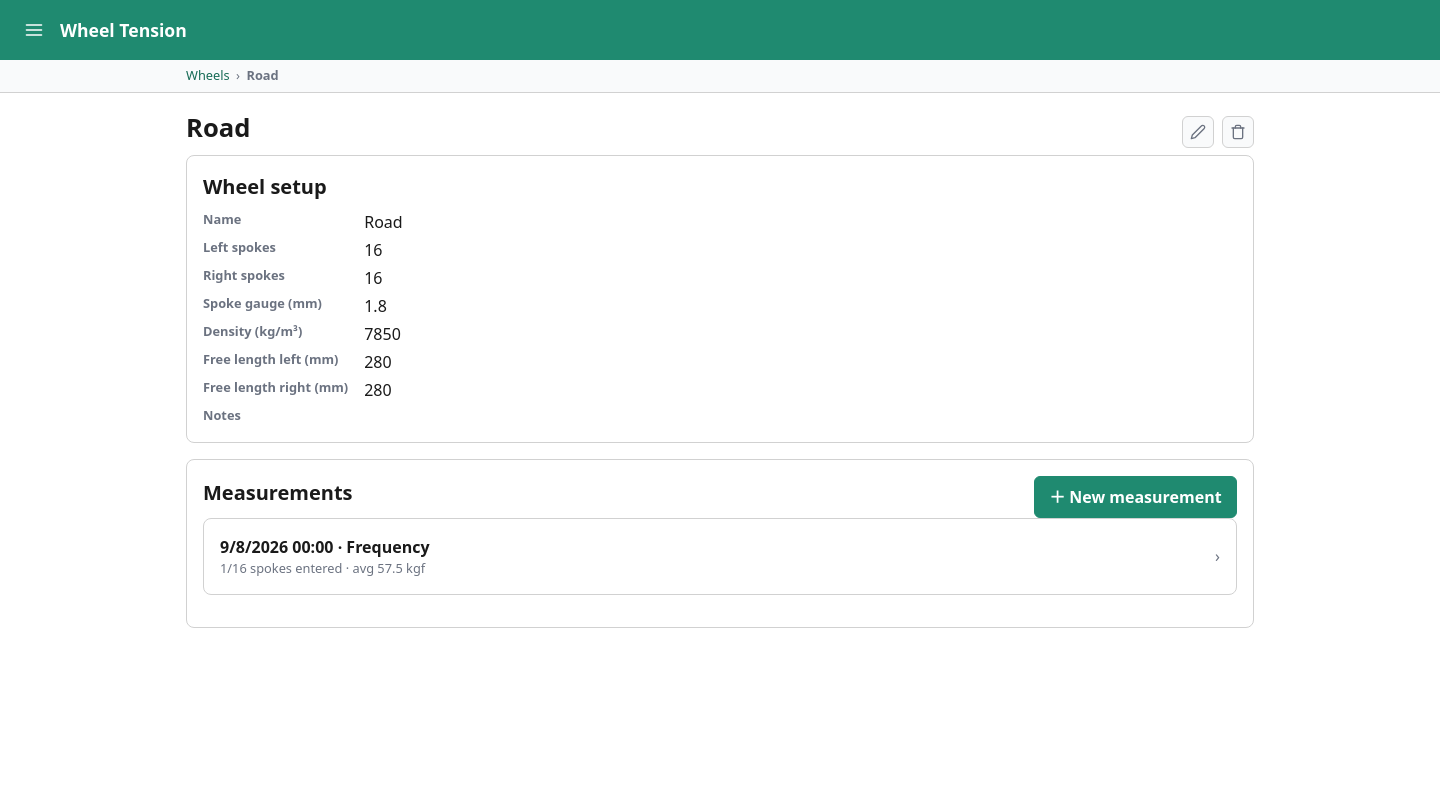
Test case: WheelDetailPage › saves edits and returns to the display view
This screenshot has width=1440, height=810.
Step 1. Click the button named "Edit wheel" → [1198, 132], box [1182,116,1214,148]
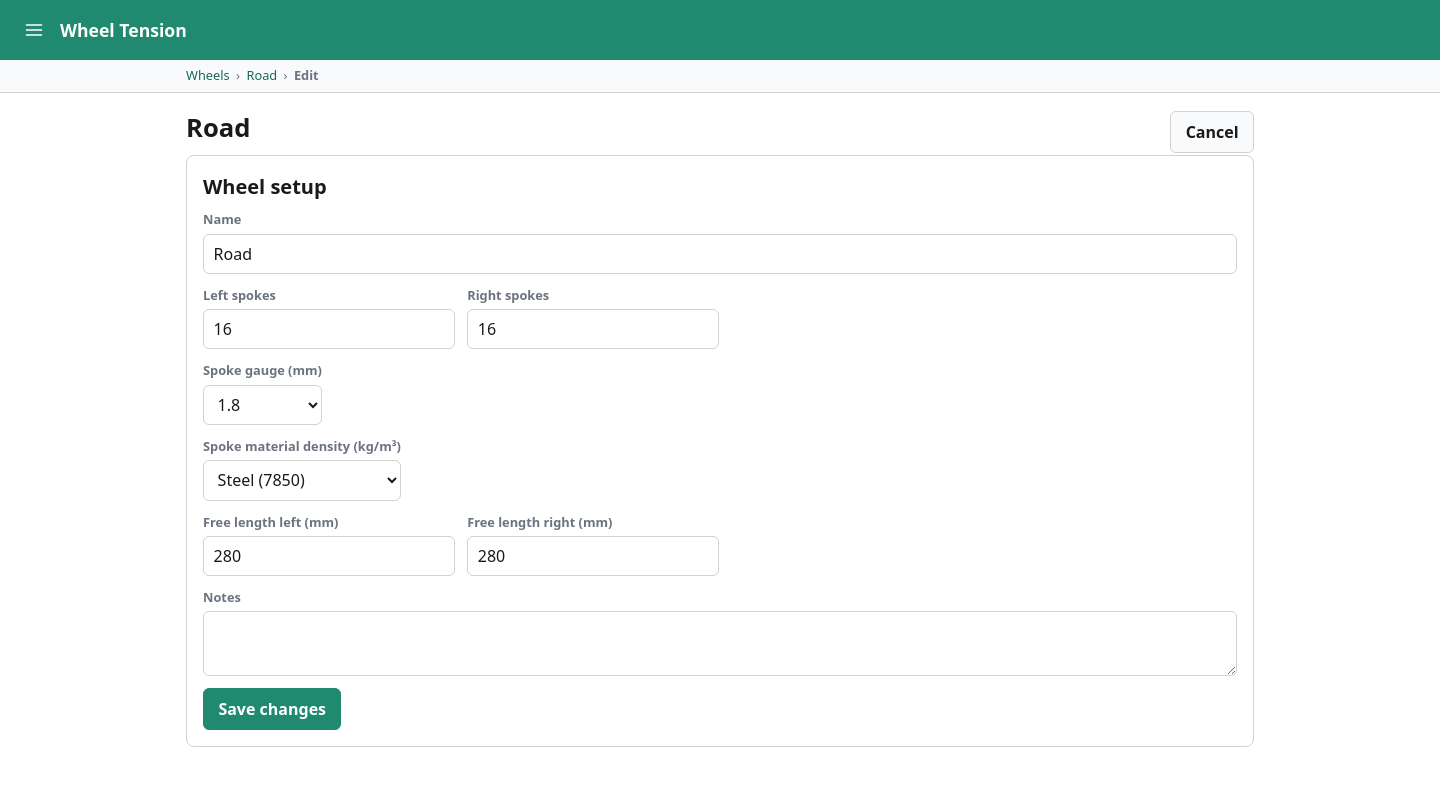
Step 2. Replace the text in the field labelled "Name" with "Gravel" → [720, 254], box [203,234,1237,274]
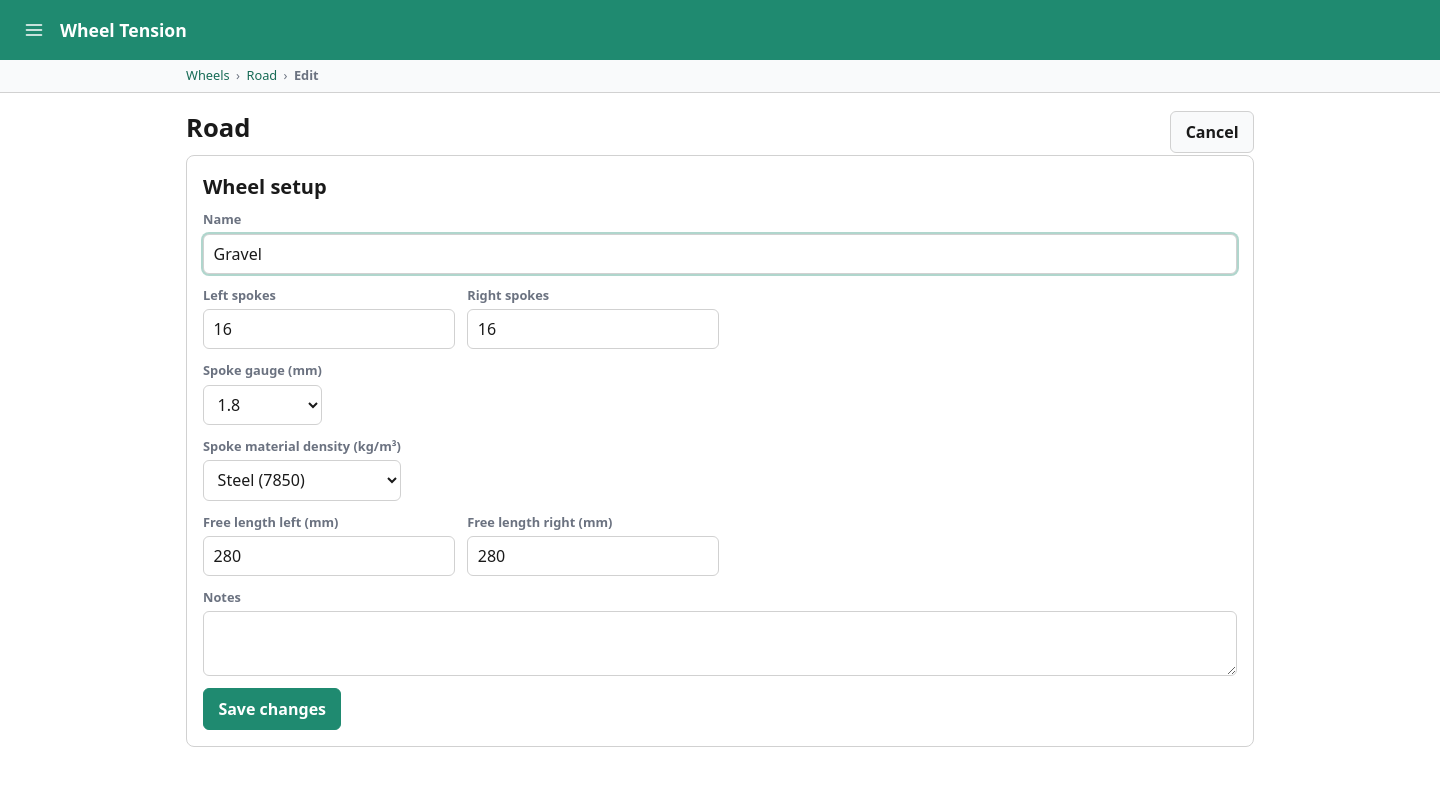
Step 3. Click the button "Save changes" → [272, 709], box [203,688,341,730]
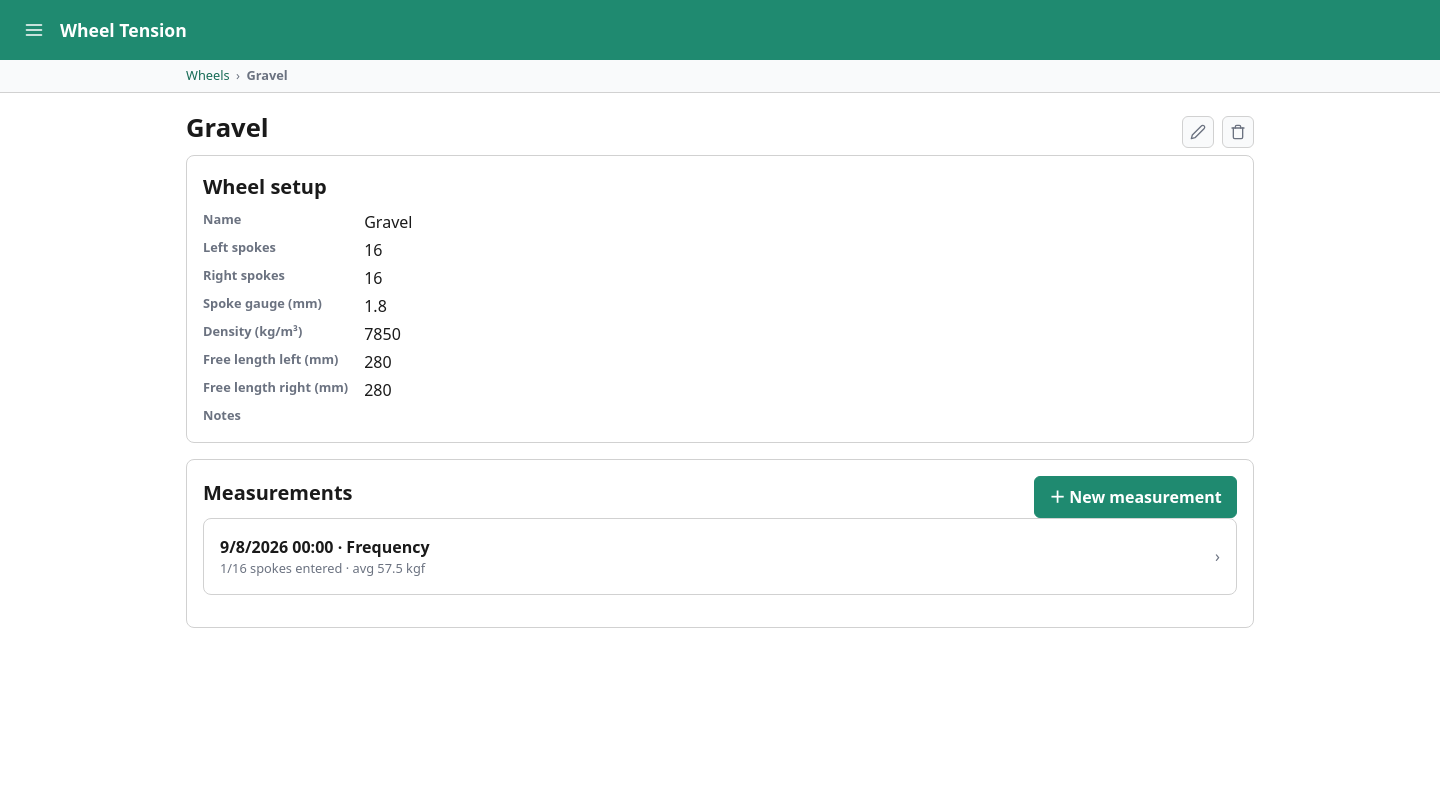
expect the text "Gravel" next to "Wheels" is shown: met, box [246,66,288,84]
